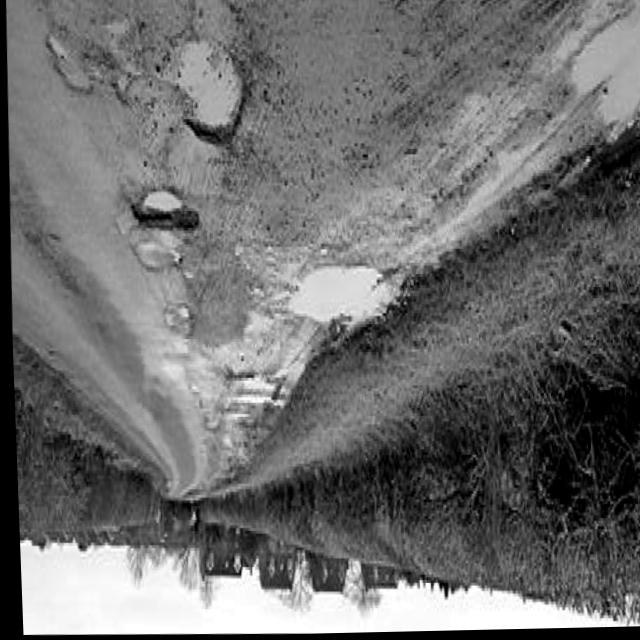pathole: (47, 0, 243, 409), (572, 1, 640, 127), (287, 268, 390, 324), (220, 388, 282, 418)
